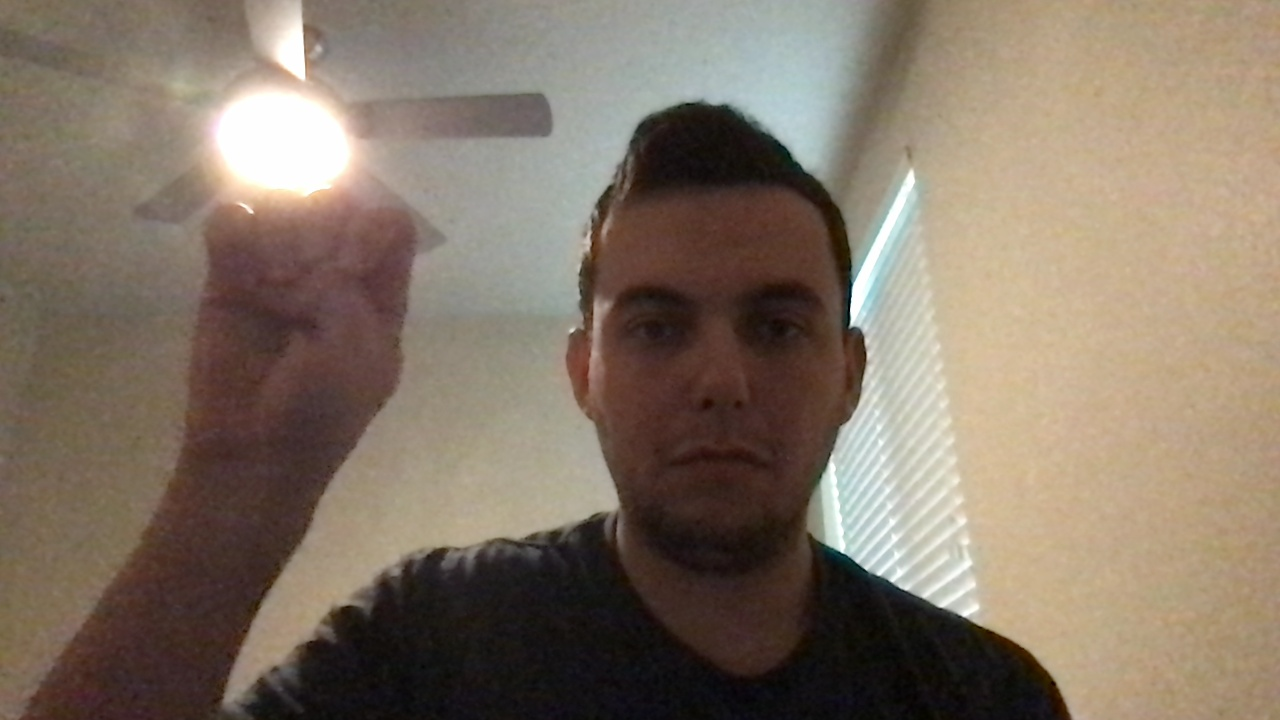e: (140, 176, 429, 476)
